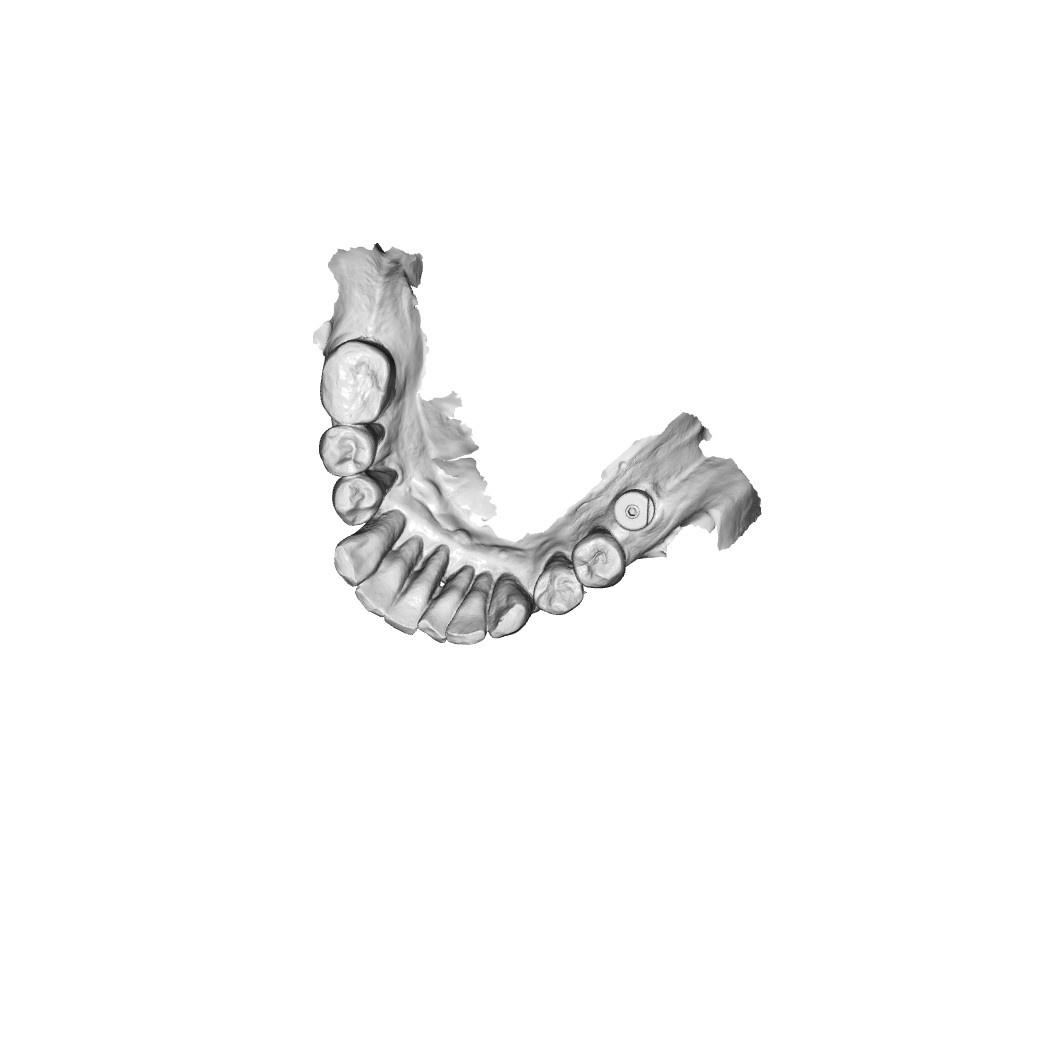canine: (334, 525, 394, 585), (488, 579, 531, 640)
implant: (614, 491, 655, 530)
incisor: (360, 557, 406, 619), (449, 584, 489, 652), (422, 579, 462, 643), (390, 573, 431, 634)
molar: (317, 342, 392, 423)
premolar: (570, 531, 629, 590), (533, 552, 585, 613), (317, 422, 373, 476), (334, 476, 387, 527)
